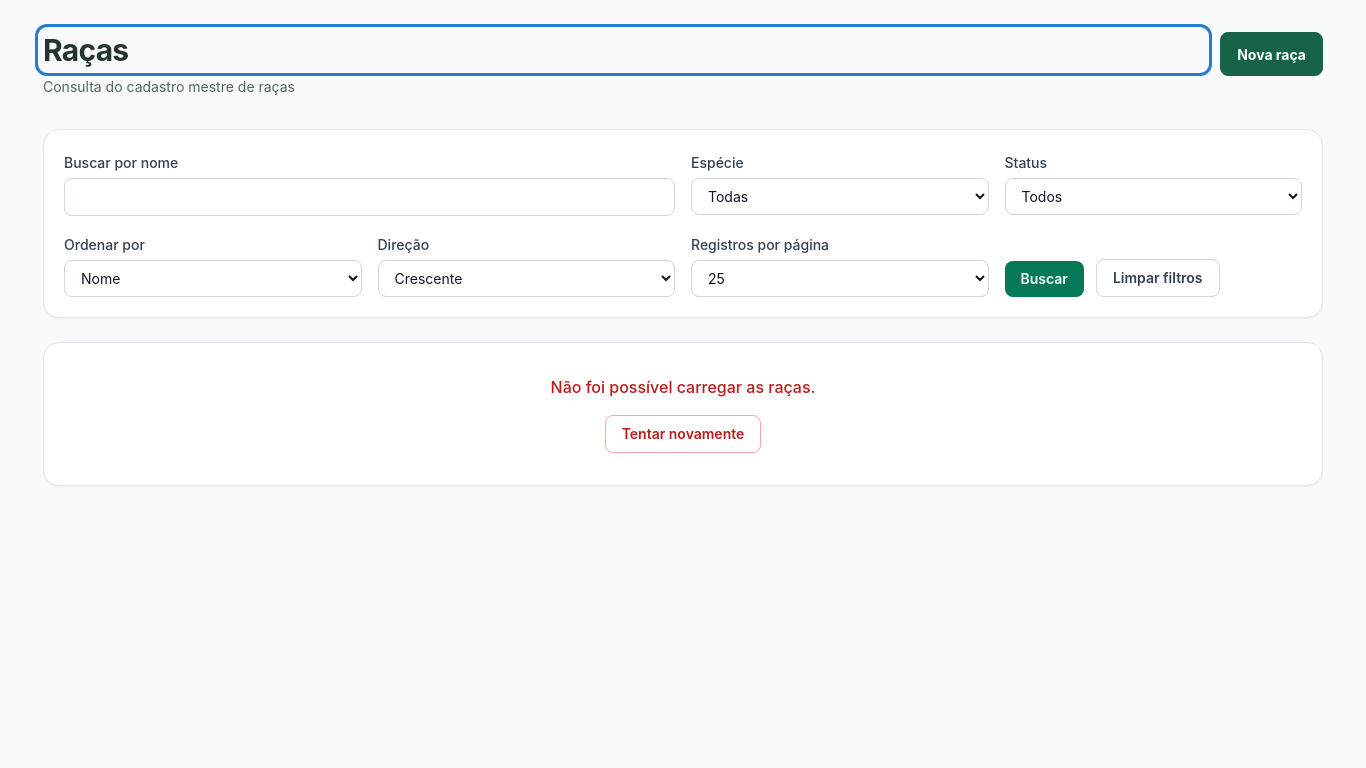
Test: BreedsListPage › mostra falha e permite tentar novamente
Check: the message shows "Não foi possível carregar as raças.", box [551,377,815,397]
Click the button "Tentar novamente" at [683, 434], box [605,415,761,453]
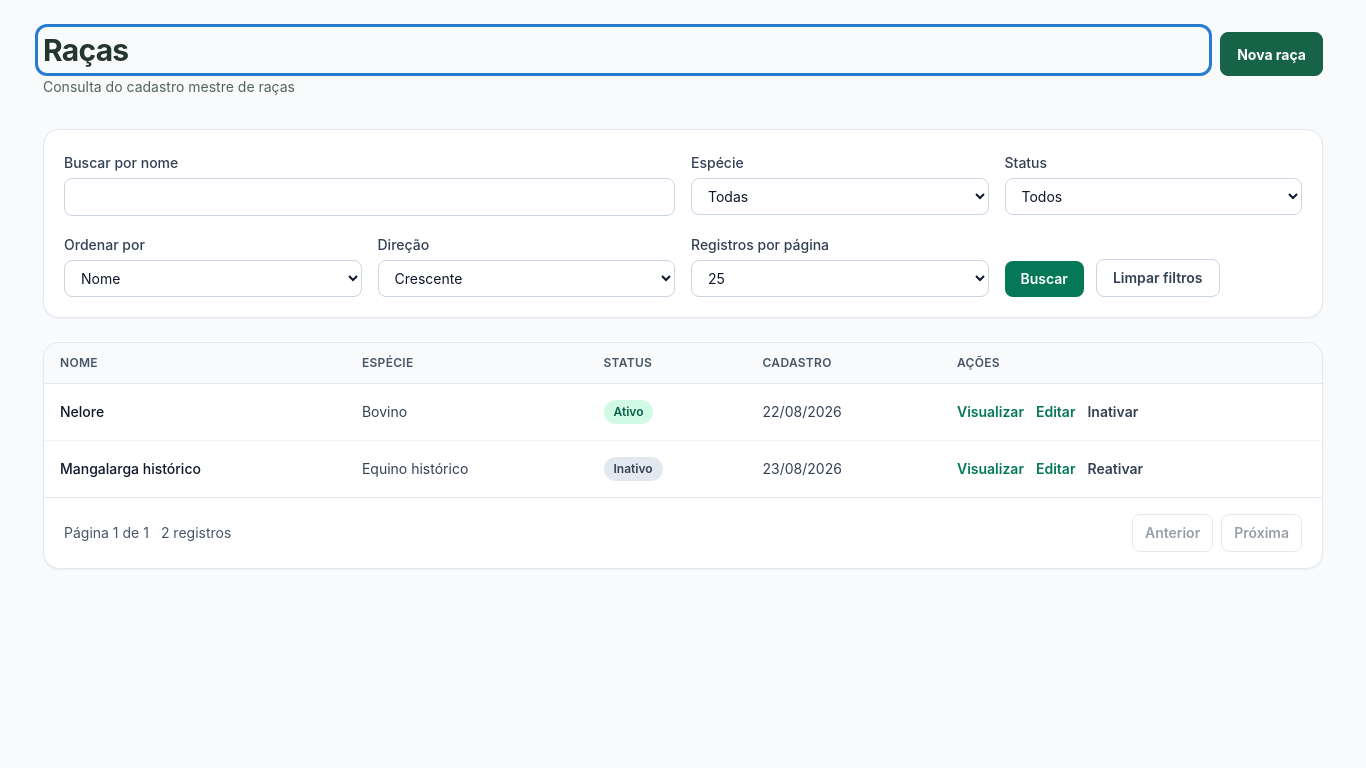
Check: the text "Nelore" is shown, box [44,384,346,440]
